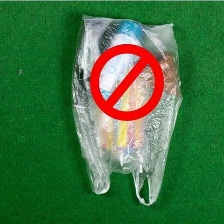plastic_bag: (67, 14, 184, 207)
